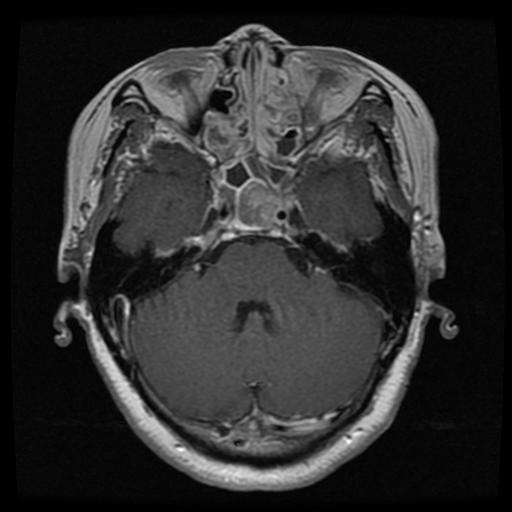Pituirity_tumour: (235, 179, 279, 231)
